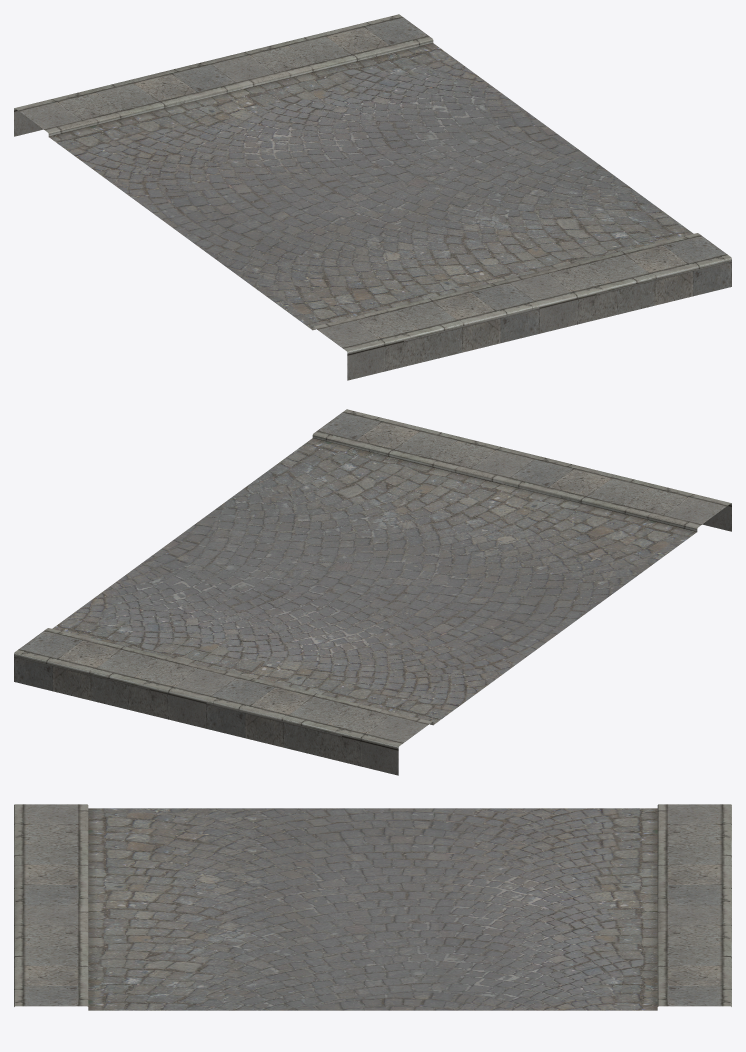
File: bg_lut_lucastle_floor01_sm_jjy.FBX
The picture shows the model from 3 angles, top to bottom: view 1: azimuth 30°, elevation 25°; view 2: azimuth 150°, elevation 25°; view 3: azimuth 270°, elevation 25°; orthographic projection. The views are drawn at different scales.
Parts seen in each view (by area): view 1: bg_lut_lucastle_floor01_sm_jjy; view 2: bg_lut_lucastle_floor01_sm_jjy; view 3: bg_lut_lucastle_floor01_sm_jjy.
Boxes of the visible parts, x1=… form: bg_lut_lucastle_floor01_sm_jjy: x1=14, y1=14, x2=731, y2=380; bg_lut_lucastle_floor01_sm_jjy: x1=14, y1=409, x2=731, y2=775; bg_lut_lucastle_floor01_sm_jjy: x1=14, y1=804, x2=731, y2=1010.
Size of the model in its own units: 512 by 37 by 768.
